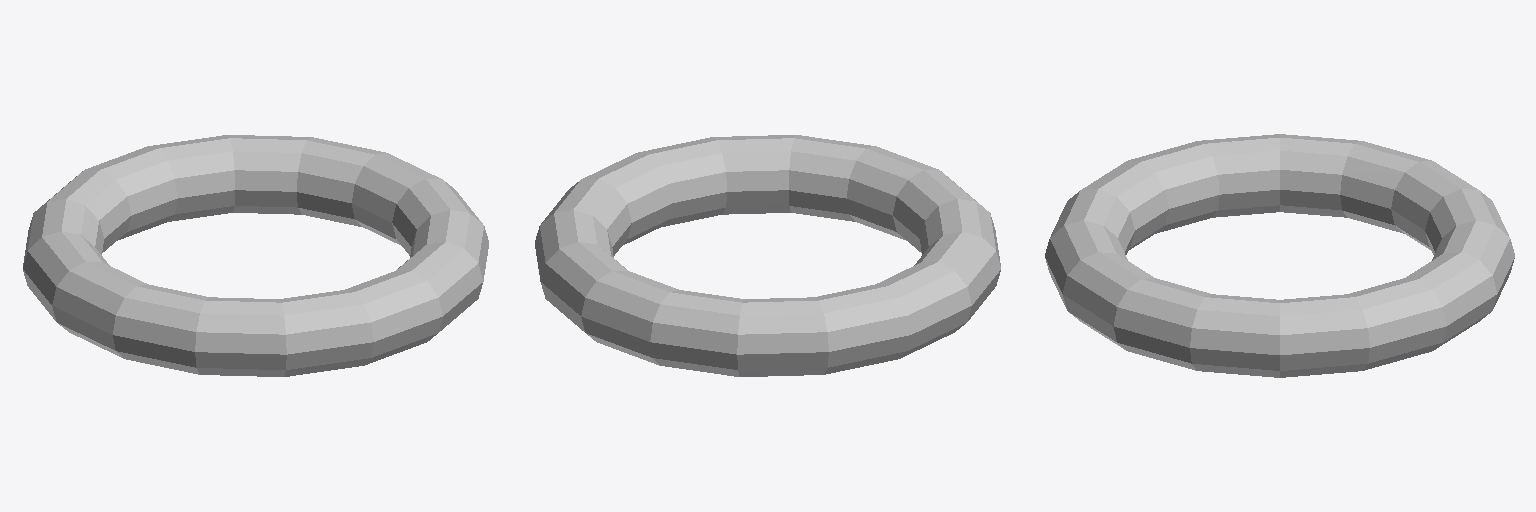
The model's file is heatsource_torus.obj.
3 views of the same model, side by side, from view 1: azimuth 30°, elevation 25°; view 2: azimuth 150°, elevation 25°; view 3: azimuth 270°, elevation 25° (orthographic).
Parts seen in each view (by area): view 1: Torus; view 2: Torus; view 3: Torus.
Boxes of the visible parts, x1=… form: Torus: x1=23, y1=135, x2=488, y2=376; Torus: x1=535, y1=135, x2=1000, y2=376; Torus: x1=1045, y1=134, x2=1514, y2=377.
Bounding box in the file's own units: 0.105 × 0.0175 × 0.105.